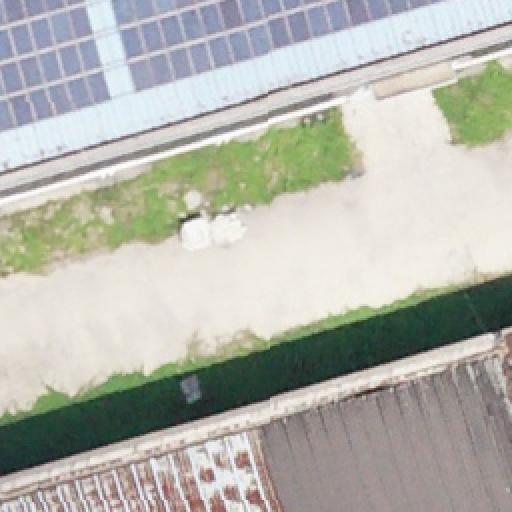solar-panel: (110, 0, 446, 90), (0, 1, 112, 135)
